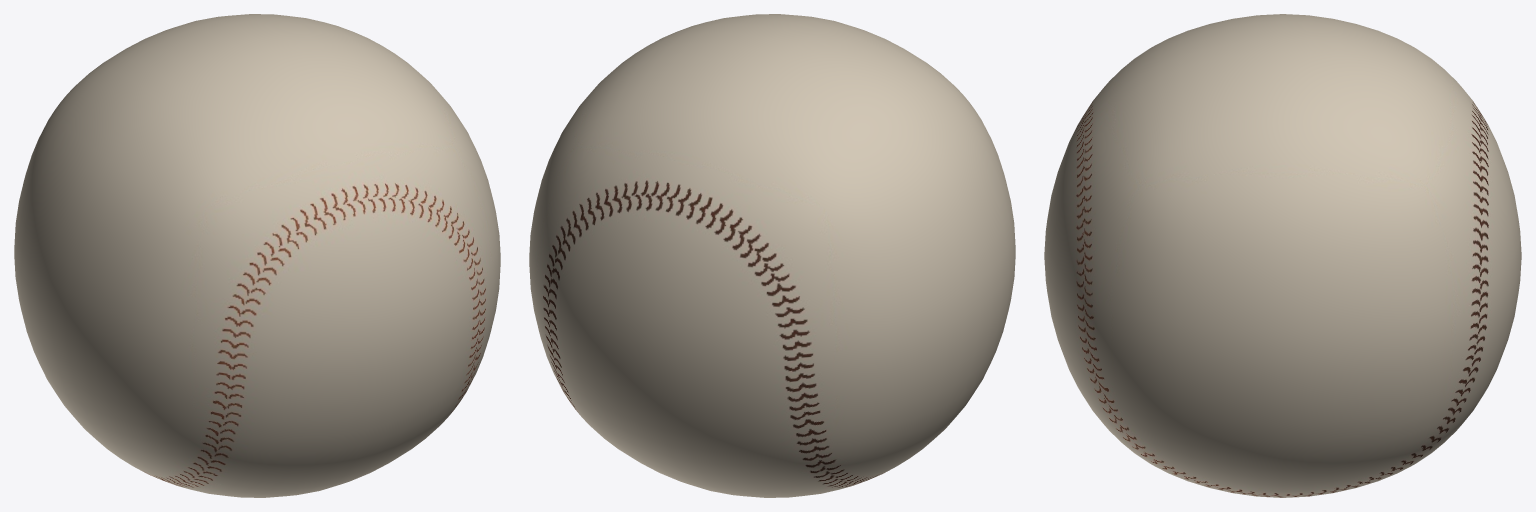
The model's file is Baseball.fbx.
3 views of the same model, side by side, from view 1: azimuth 30°, elevation 25°; view 2: azimuth 150°, elevation 25°; view 3: azimuth 270°, elevation 25° (orthographic).
Visible parts, largest first — view 1: 10483_baseball_v1_L3; view 2: 10483_baseball_v1_L3; view 3: 10483_baseball_v1_L3.
Boxes of the visible parts, left/top/right/bottom form: 10483_baseball_v1_L3: left=14, top=14, right=500, bottom=497; 10483_baseball_v1_L3: left=529, top=14, right=1015, bottom=497; 10483_baseball_v1_L3: left=1044, top=14, right=1521, bottom=497.
Size of the model in its own units: 903 by 903 by 903.
